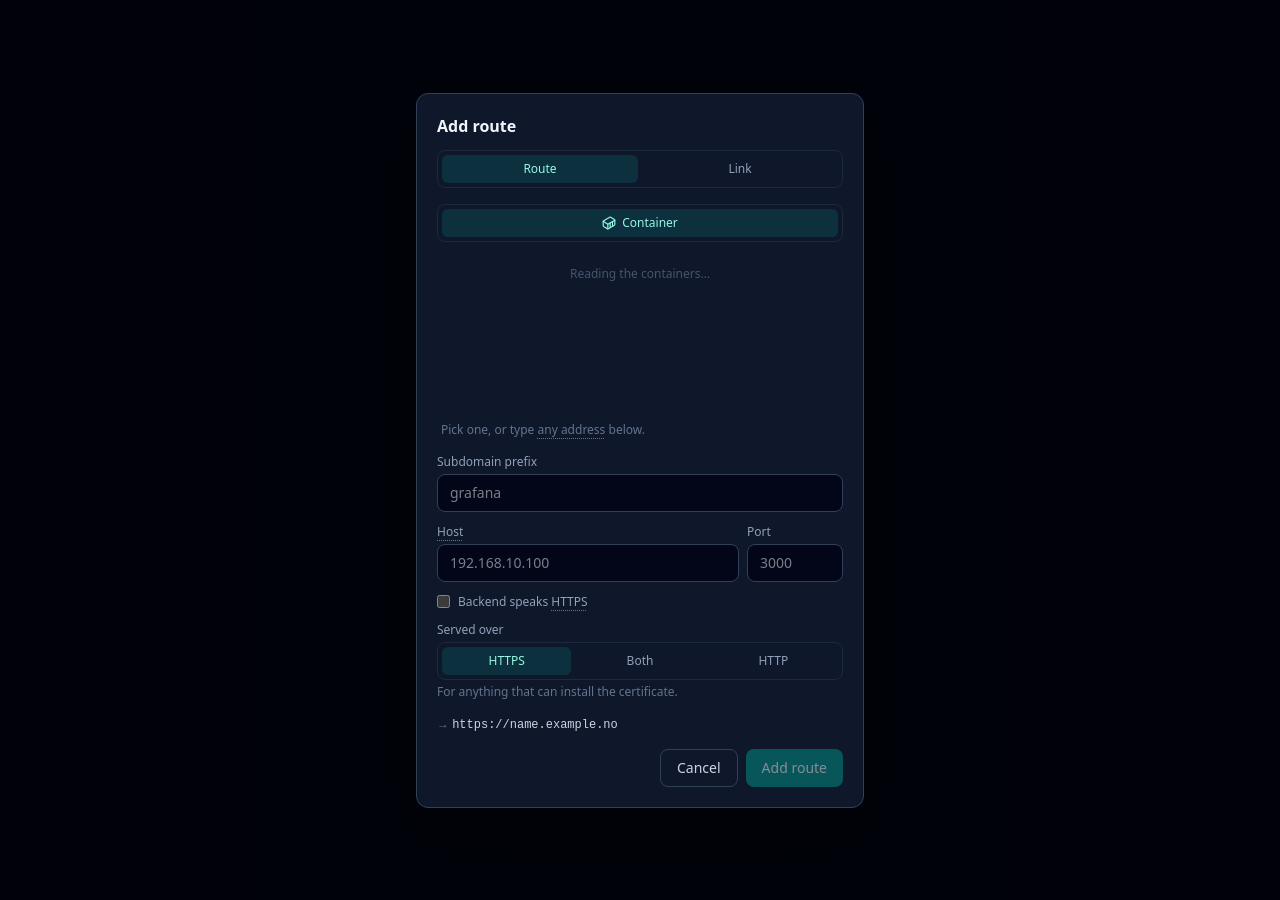
explains a host typed as a URL
Type "http://192.168.10.100" into the dropdown named "Host" at point(588, 562), box [437, 544, 739, 582]
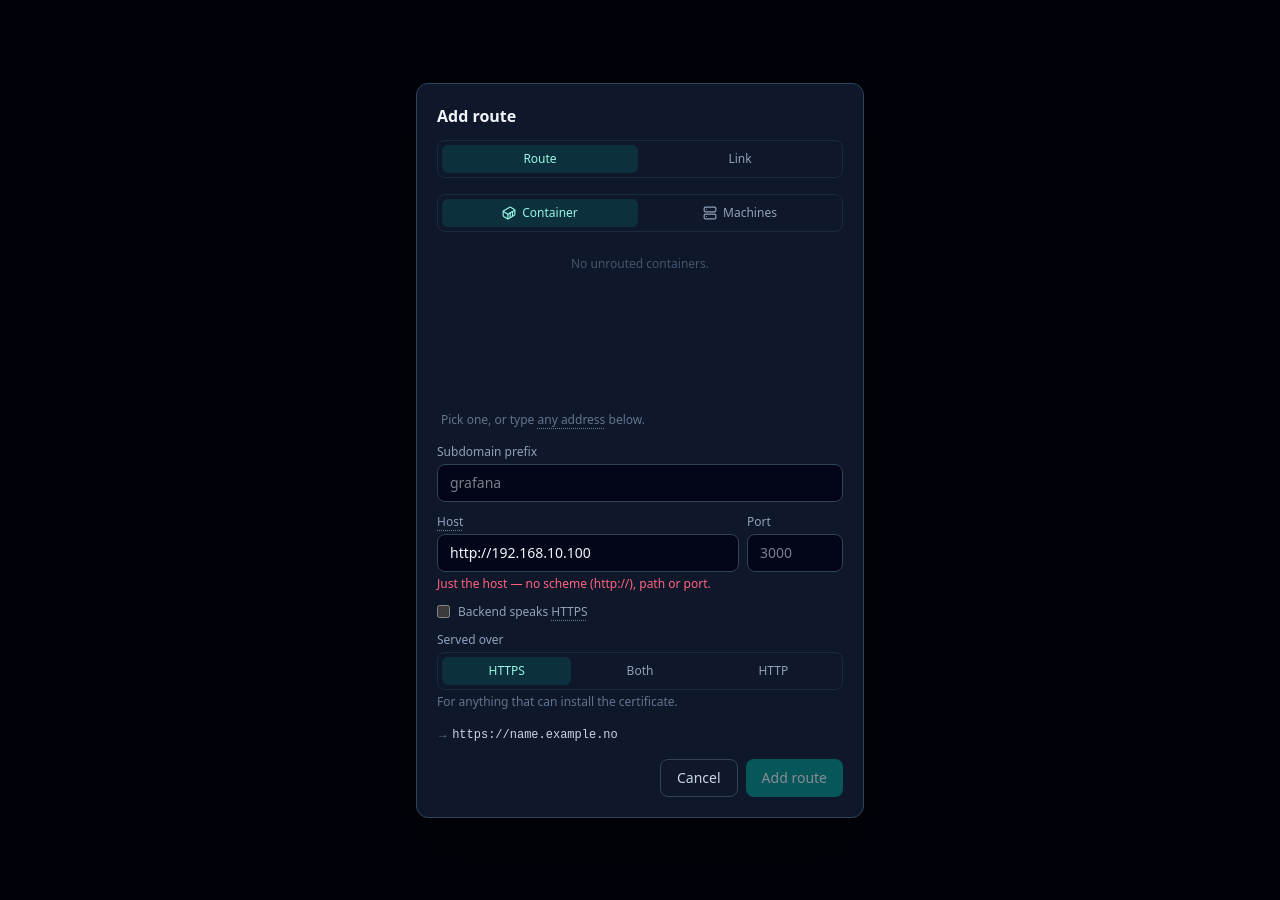
Expected: the text "Just the host — no scheme (http://), path or port." is shown, [437, 574, 711, 592]
